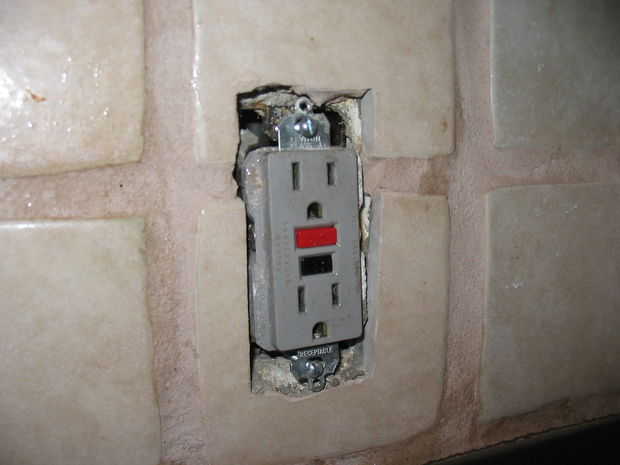outlet: (285, 155, 339, 223), (293, 279, 345, 343)
